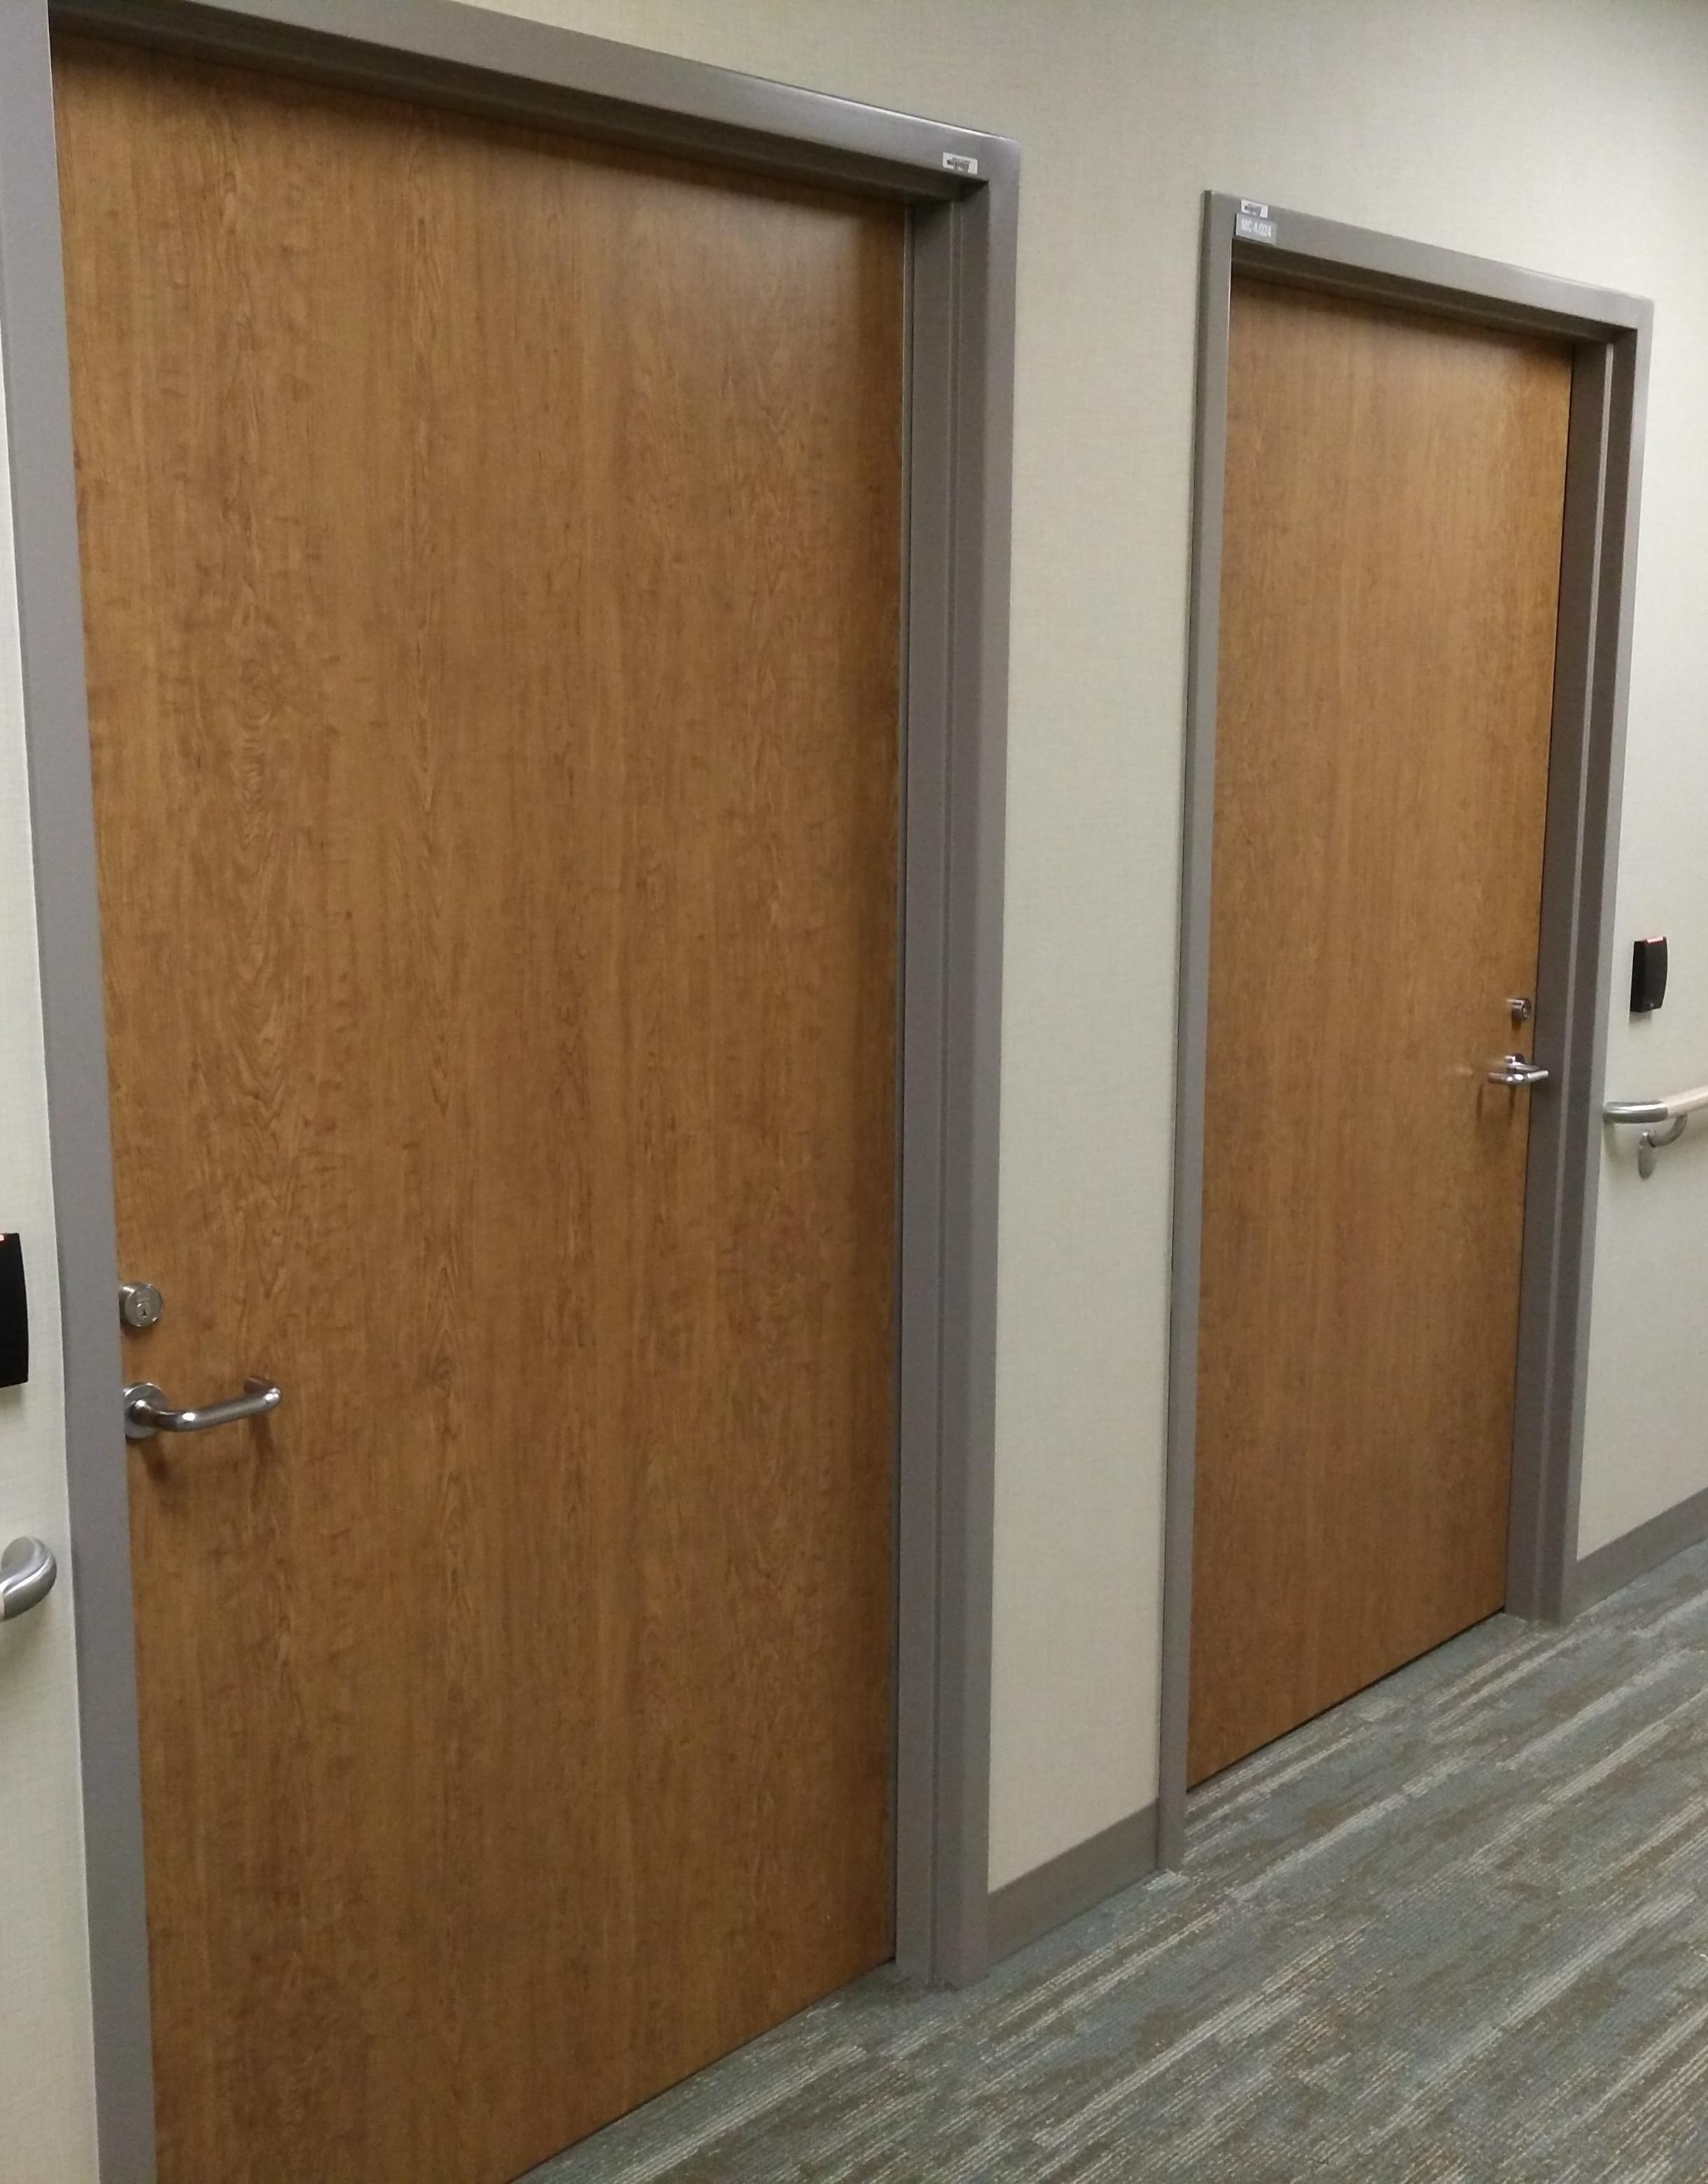door: (34, 2, 947, 2136), (1187, 241, 1593, 1792)
